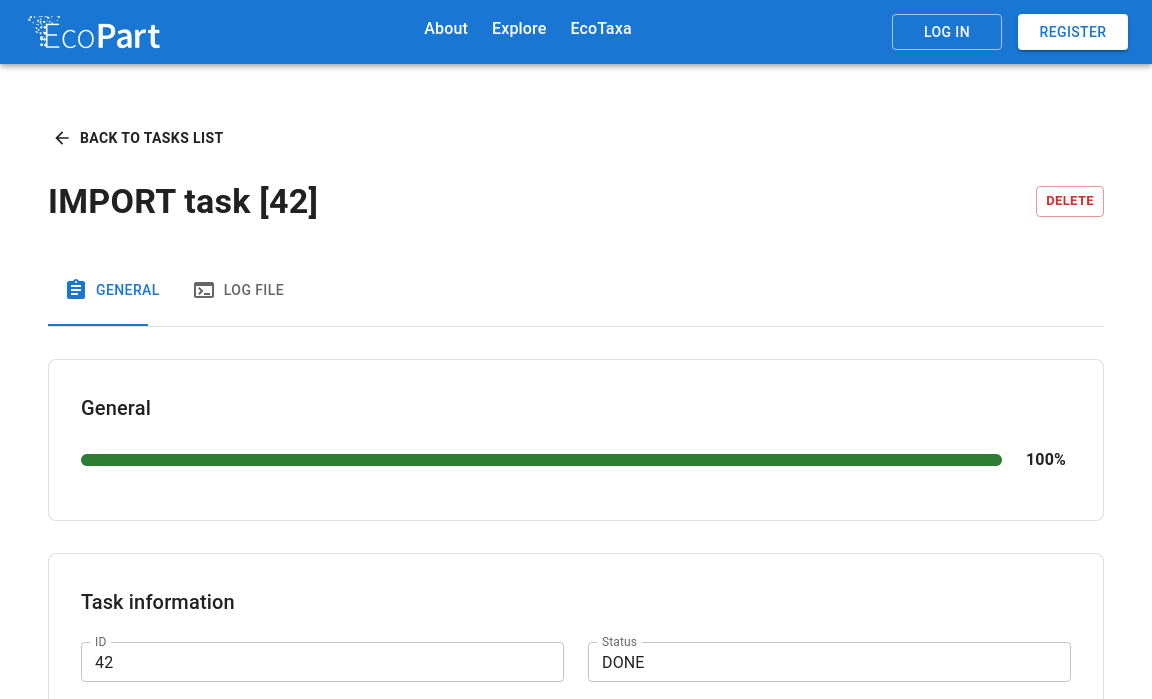
TaskDetailsPage (Functional) › TC-S3: fetches and renders the log when switching to the LOG FILE tab
Expected: the heading "IMPORT task [42]" is shown, [48,180,318,222]
What coordinates should you click on to do the following:
click the tab "LOG FILE"
I would click on:
 (238, 290)
Its box is [176,254,300,326].
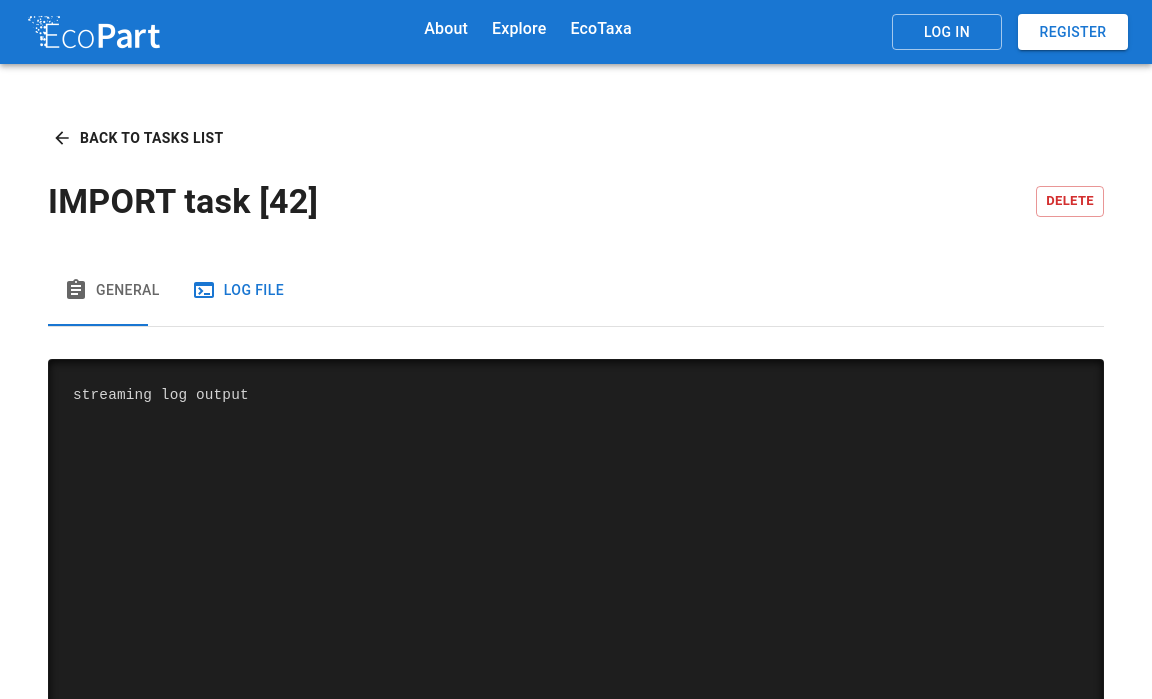
Expected: the text "streaming log output" is shown, [73,388,249,404]
